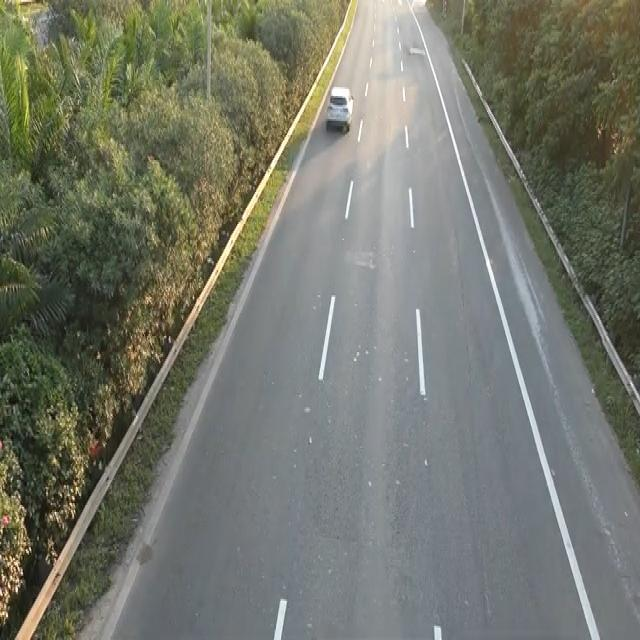car: (324, 84, 354, 134)
